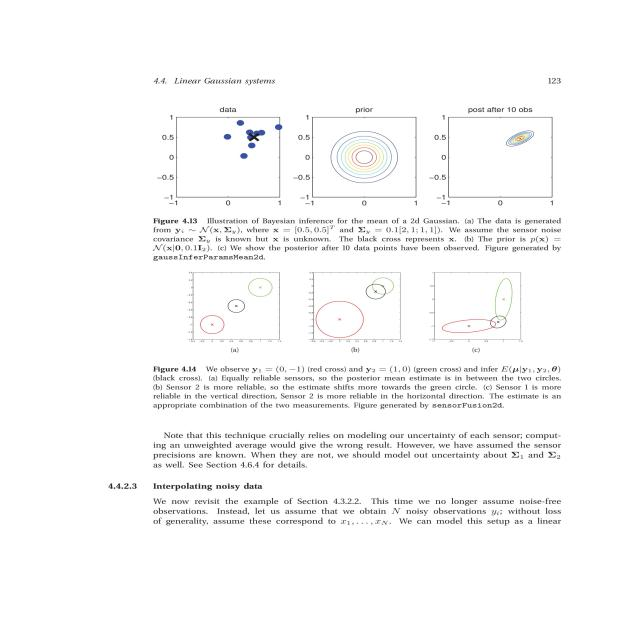diagram: (90, 70, 603, 271), (139, 276, 598, 422)
